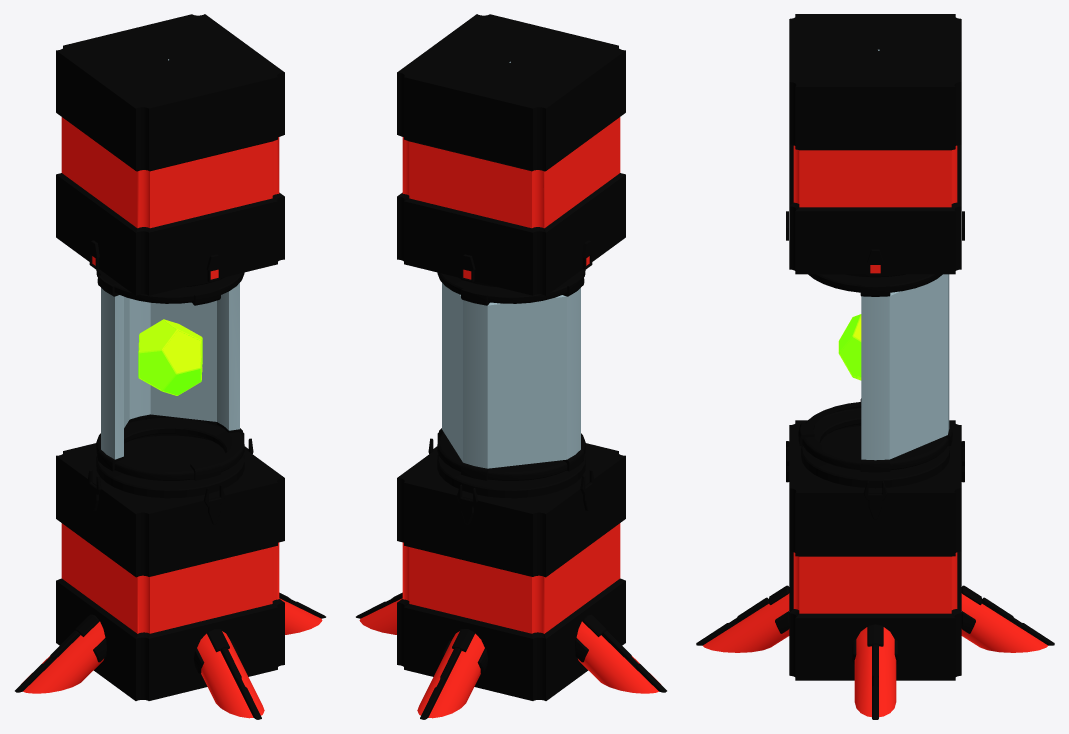
The model's file is Mod_Hedro_Spot.fbx.
3 views of the same model, side by side, from view 1: azimuth 30°, elevation 25°; view 2: azimuth 150°, elevation 25°; view 3: azimuth 270°, elevation 25° (orthographic).
Parts seen in each view (by area): view 1: Top_hedro_Spot, Base_hedro_Spot, Mod_Hedro_Spot_Glass, Hedro_Conrtainer, sec_detail_spot_002, Hedro_Holo, sec_detail_spot_001, sec_detail_spot, Cube_021, sec_detail_spot_003; view 2: Top_hedro_Spot, Base_hedro_Spot, Mod_Hedro_Spot_Glass, sec_detail_spot_002, Hedro_Conrtainer, sec_detail_spot_001, sec_detail_spot, Cube_021, sec_detail_spot_003; view 3: Top_hedro_Spot, Base_hedro_Spot, Mod_Hedro_Spot_Glass, sec_detail_spot_002, Hedro_Conrtainer, sec_detail_spot_001, sec_detail_spot, Hedro_Holo, Cube_021.
Boxes of the visible parts, bbox=[...] form: Top_hedro_Spot: bbox=[56, 14, 284, 295]; Base_hedro_Spot: bbox=[56, 435, 284, 700]; Mod_Hedro_Spot_Glass: bbox=[97, 275, 243, 480]; Hedro_Conrtainer: bbox=[96, 269, 244, 498]; sec_detail_spot_002: bbox=[21, 598, 322, 718]; Hedro_Holo: bbox=[138, 319, 202, 395]; sec_detail_spot_001: bbox=[15, 592, 325, 719]; sec_detail_spot: bbox=[75, 614, 239, 673]; Cube_021: bbox=[87, 433, 253, 524]; sec_detail_spot_003: bbox=[89, 240, 221, 282]; Top_hedro_Spot: bbox=[397, 14, 625, 295]; Base_hedro_Spot: bbox=[397, 443, 625, 700]; Mod_Hedro_Spot_Glass: bbox=[438, 275, 584, 480]; sec_detail_spot_002: bbox=[359, 598, 660, 718]; Hedro_Conrtainer: bbox=[437, 269, 585, 498]; sec_detail_spot_001: bbox=[356, 592, 666, 719]; sec_detail_spot: bbox=[442, 614, 606, 673]; Cube_021: bbox=[428, 433, 594, 524]; sec_detail_spot_003: bbox=[460, 240, 592, 282]; Top_hedro_Spot: bbox=[789, 14, 961, 274]; Base_hedro_Spot: bbox=[789, 420, 961, 680]; Mod_Hedro_Spot_Glass: bbox=[798, 274, 952, 472]; sec_detail_spot_002: bbox=[703, 593, 1047, 717]; Hedro_Conrtainer: bbox=[801, 274, 949, 488]; sec_detail_spot_001: bbox=[696, 597, 1054, 719]; sec_detail_spot: bbox=[768, 585, 982, 664]; Hedro_Holo: bbox=[838, 314, 861, 380]; Cube_021: bbox=[786, 441, 964, 519].
Size of the model in its own units: 312 by 571 by 312.
